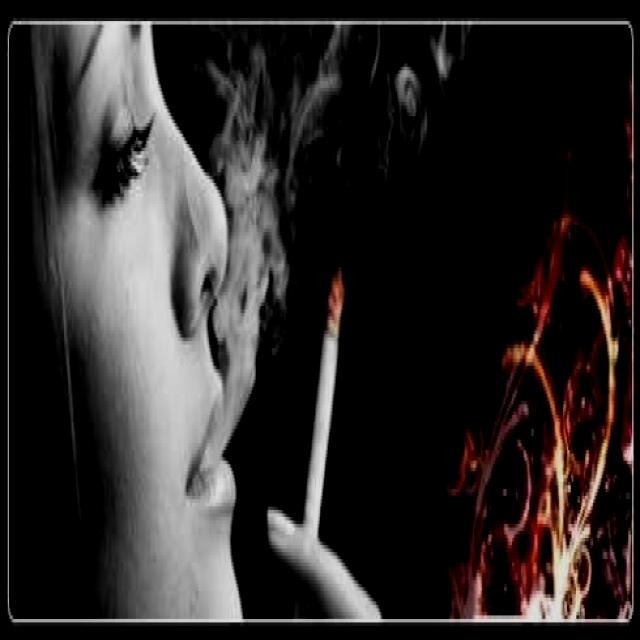Smooking: (295, 265, 351, 542)
